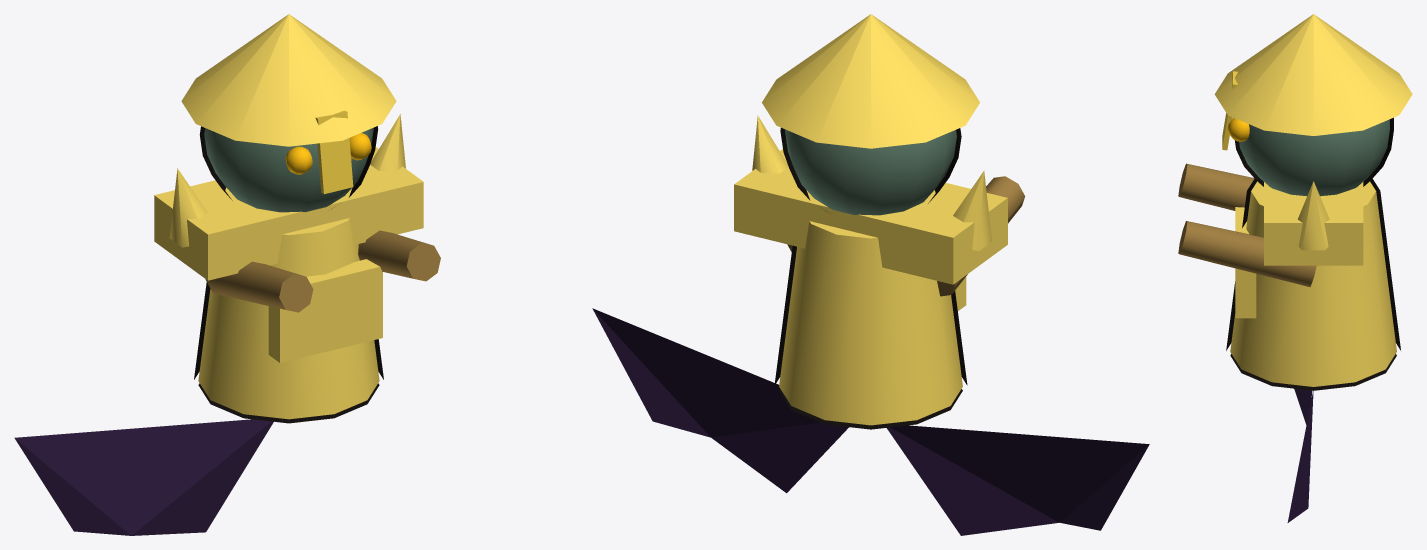
Rendered from phicuong.glb.
3 views of the same model, side by side, from view 1: azimuth 30°, elevation 25°; view 2: azimuth 150°, elevation 25°; view 3: azimuth 270°, elevation 25° (orthographic). The views are drawn at different scales.
Visible parts, largest first — view 1: PC_WingR, PC_Helmet, PC_Torso, PC_Shoulder, PC_Breastplate, PC_Head, PC_Arm_0, PC_Arm_1, PC_Talisman, PC_Torso_outline, PC_Spike_0, PC_Spike_1 (+1 smaller); view 2: PC_Torso, PC_WingR, PC_Helmet, PC_WingL, PC_Shoulder, PC_Head, PC_Torso_outline, PC_Spike_0, PC_Spike_1, PC_Arm_0, PC_Head_outline; view 3: PC_Torso, PC_Helmet, PC_Head, PC_Shoulder, PC_Arm_1, PC_Arm_0, PC_Torso_outline, PC_Spike_1, PC_Breastplate, PC_WingL, PC_Head_outline, PC_Eye_1 (+2 smaller).
Boxes of the visible parts, x1,y1,x2,y2 form: PC_WingR: (14,419,273,535); PC_Helmet: (181,14,396,146); PC_Torso: (198,218,379,419); PC_Shoulder: (154,147,423,280); PC_Breastplate: (268,259,382,362); PC_Head: (204,128,373,212); PC_Arm_0: (205,261,313,312); PC_Arm_1: (358,230,440,281); PC_Talisman: (315,110,353,194); PC_Torso_outline: (194,282,383,423); PC_Spike_0: (169,168,207,247); PC_Spike_1: (370,114,405,170); PC_Torso: (779,221,962,425); PC_WingR: (887,425,1149,535); PC_Helmet: (762,14,979,148); PC_WingL: (592,308,848,493); PC_Shoulder: (734,149,1007,284); PC_Head: (785,129,956,215); PC_Torso_outline: (774,245,967,429); PC_Spike_0: (953,170,991,250); PC_Spike_1: (752,115,788,173); PC_Arm_0: (937,176,1025,296); PC_Head_outline: (780,127,961,211); PC_Torso: (1230,181,1396,386); PC_Helmet: (1214,14,1412,135); PC_Head: (1239,119,1389,196); PC_Shoulder: (1264,182,1363,265); PC_Arm_1: (1178,221,1316,287); PC_Arm_0: (1178,163,1254,210); PC_Torso_outline: (1226,178,1400,390); PC_Spike_1: (1297,181,1329,250); PC_Breastplate: (1235,207,1256,318); PC_WingL: (1287,390,1313,522); PC_Head_outline: (1233,117,1393,186); PC_Eye_1: (1227,118,1249,141).
Size of the model in its own units: 3.02 by 2.61 by 1.21.
